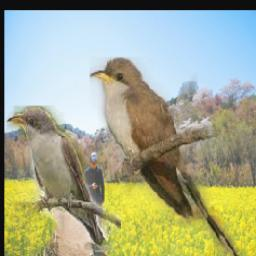Cuckoo: (91, 57, 241, 256), (6, 106, 121, 256)
